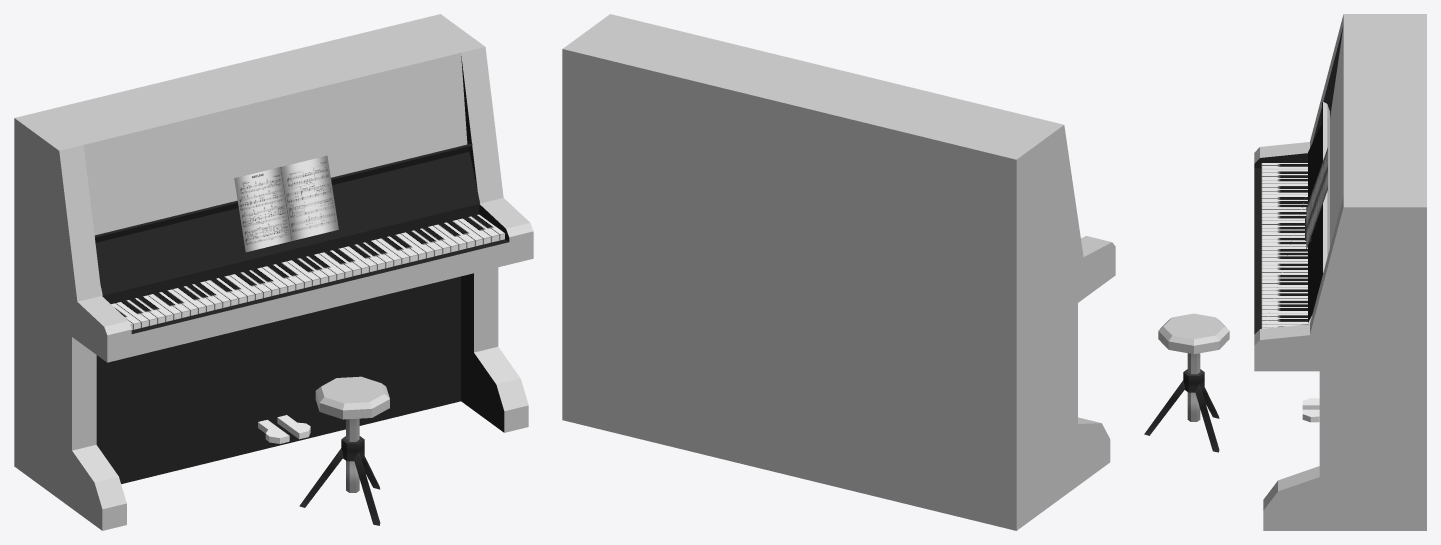
Rendered from InteriorItem_002.fbx.
3 renders of one model, left to right at view 1: azimuth 30°, elevation 25°; view 2: azimuth 150°, elevation 25°; view 3: azimuth 270°, elevation 25°, orthographic. The views are drawn at different scales.
Parts seen in each view (by area): view 1: InteriorItem_002; view 2: InteriorItem_002; view 3: InteriorItem_002.
Boxes of the visible parts, left/top/right/bottom form: InteriorItem_002: left=14, top=14, right=533, bottom=530; InteriorItem_002: left=562, top=14, right=1115, bottom=530; InteriorItem_002: left=1144, top=14, right=1426, bottom=530.
Bounding box in the file's own units: 192 × 150 × 119.
